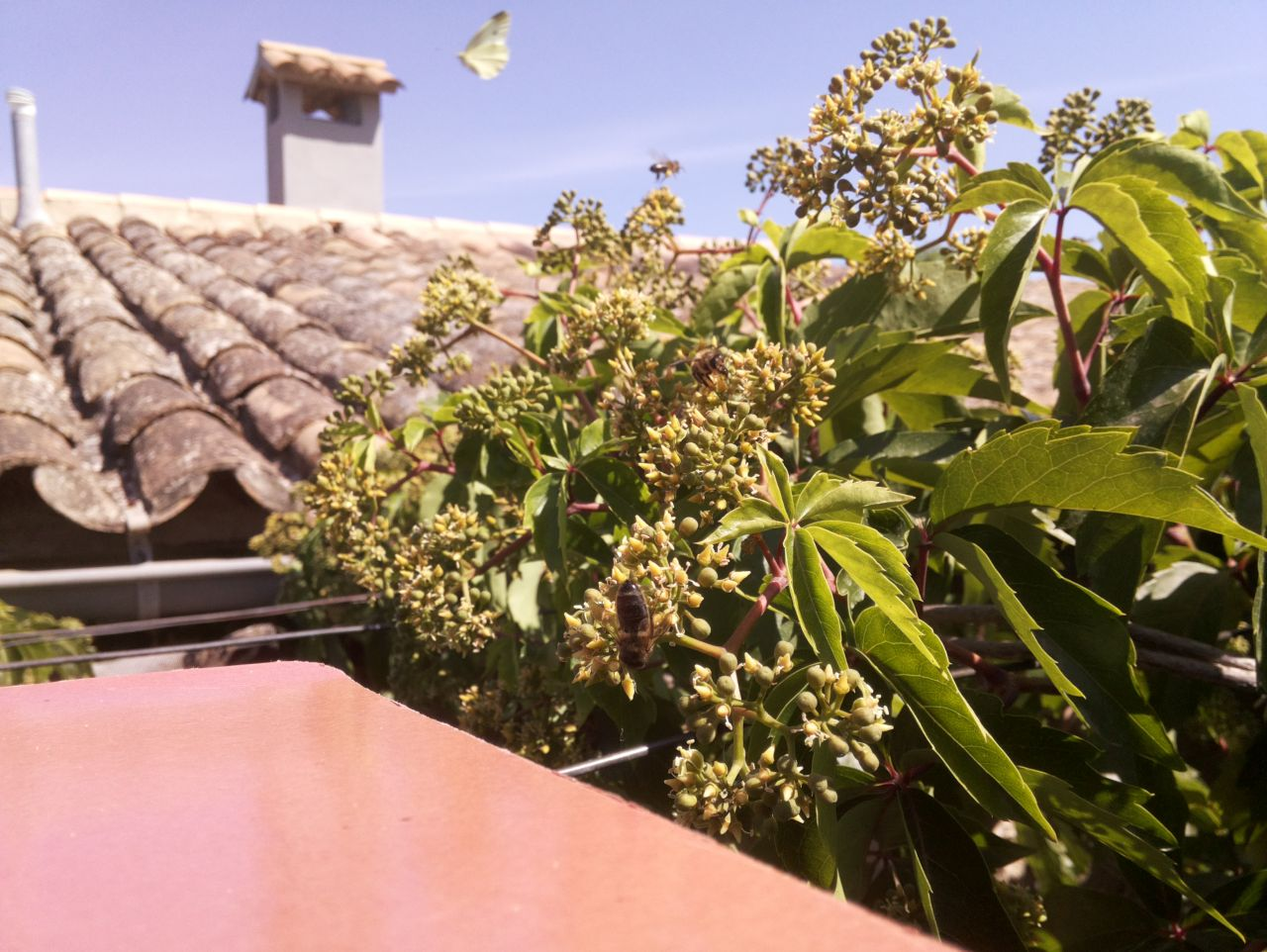Apis mellifera: (588, 575, 665, 674), (673, 339, 745, 402), (639, 143, 692, 190)
Butterfly: (449, 8, 528, 83)
